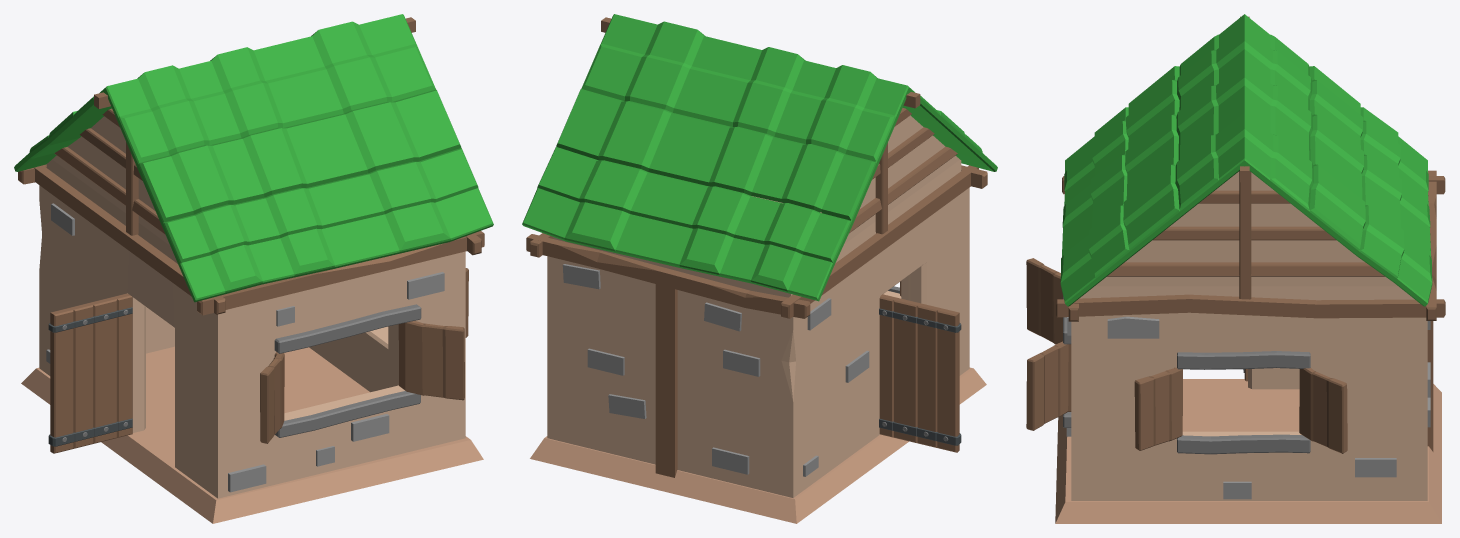
File: House_01.fbx
3 renders of one model, left to right at view 1: azimuth 30°, elevation 25°; view 2: azimuth 150°, elevation 25°; view 3: azimuth 270°, elevation 25°, orthographic.
Visible parts, largest first — view 1: House_01, Door; view 2: House_01, Door; view 3: House_01.
Part boxes in pixels (box(x1,y1,x2,y2)): House_01: box(14, 14, 493, 523); Door: box(48, 293, 132, 453); House_01: box(522, 14, 997, 523); Door: box(879, 294, 961, 452); House_01: box(1026, 14, 1445, 523).
Bounding box in the file's own units: 527 × 523 × 526.
1 material, 1 textured.
